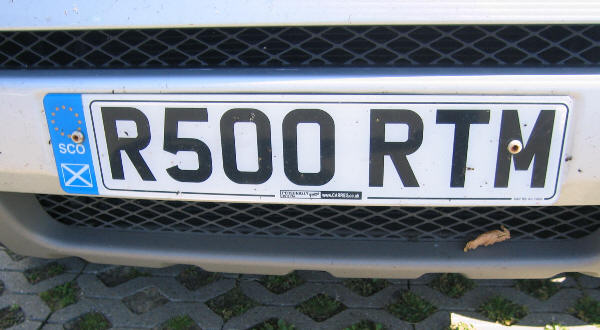license_plate: (44, 91, 573, 202)
